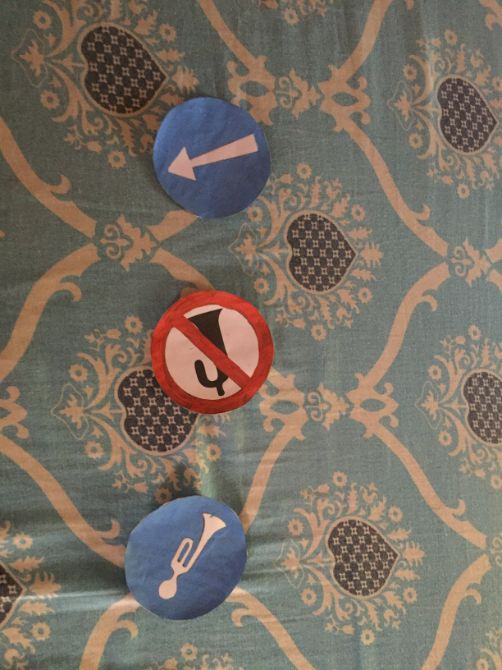blow-horn: (123, 495, 246, 620)
keep-left: (154, 98, 272, 220)
no-horn: (151, 293, 274, 415)
